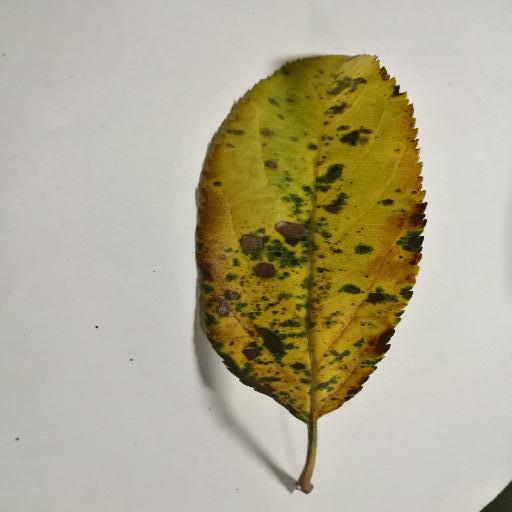Brown_Spot: (218, 101, 391, 384)
